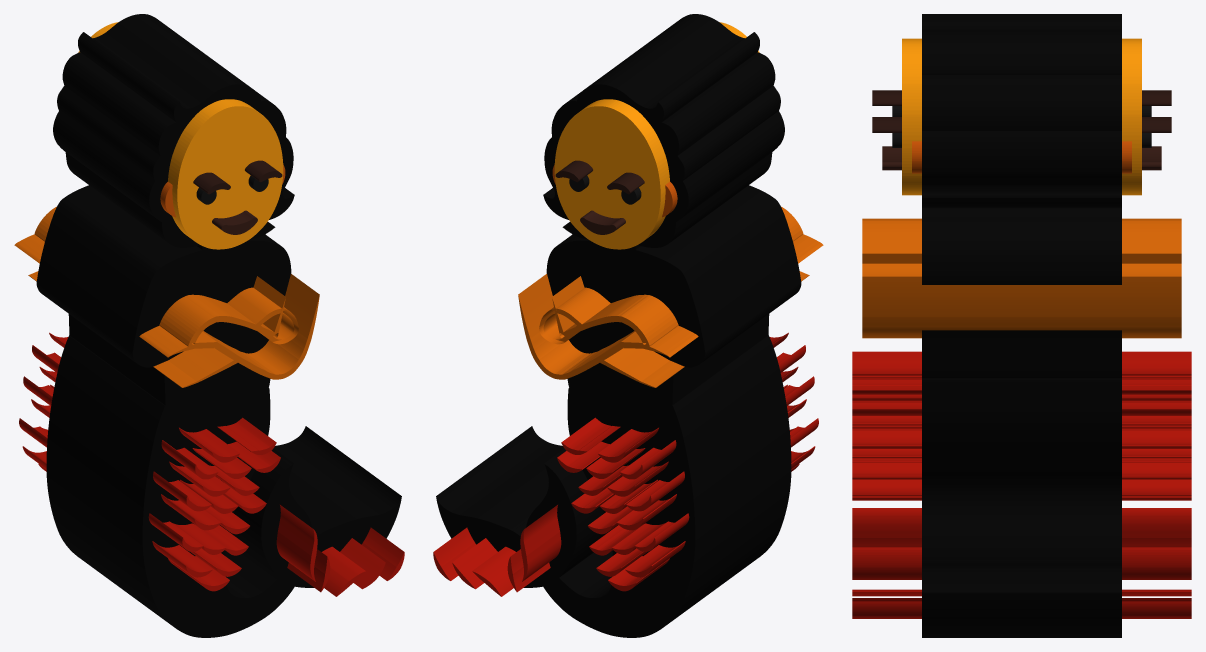
3 renders of one model, left to right at view 1: azimuth 30°, elevation 25°; view 2: azimuth 150°, elevation 25°; view 3: azimuth 270°, elevation 25°, orthographic. The views are drawn at different scales.
Visible parts, largest first — view 1: U+1F9DC_layer00_obj03, U+1F9DC_layer00_obj05, U+1F9DC_layer00_obj04, U+1F9DC_layer02_obj00, U+1F9DC_layer06_obj03, U+1F9DC_layer00_obj00, U+1F9DC_layer06_obj02, U+1F9DC_layer07_obj13, U+1F9DC_layer06_obj00, U+1F9DC_layer00_obj01, U+1F9DC_layer06_obj01, U+1F9DC_layer00_obj06 (+23 smaller); view 2: U+1F9DC_layer00_obj03, U+1F9DC_layer00_obj05, U+1F9DC_layer00_obj04, U+1F9DC_layer02_obj00, U+1F9DC_layer06_obj03, U+1F9DC_layer00_obj00, U+1F9DC_layer06_obj02, U+1F9DC_layer07_obj13, U+1F9DC_layer06_obj00, U+1F9DC_layer00_obj01, U+1F9DC_layer06_obj01, U+1F9DC_layer07_obj21 (+23 smaller); view 3: U+1F9DC_layer00_obj03, U+1F9DC_layer00_obj04, U+1F9DC_layer00_obj05, U+1F9DC_layer06_obj03, U+1F9DC_layer00_obj00, U+1F9DC_layer02_obj00, U+1F9DC_layer07_obj13, U+1F9DC_layer07_obj07, U+1F9DC_layer07_obj19, U+1F9DC_layer07_obj01, U+1F9DC_layer07_obj02, U+1F9DC_layer07_obj06 (+17 smaller).
Part boxes in pixels (bbox=[...]): U+1F9DC_layer00_obj03: bbox=[46, 335, 401, 637]; U+1F9DC_layer00_obj05: bbox=[36, 185, 291, 439]; U+1F9DC_layer00_obj04: bbox=[57, 14, 286, 183]; U+1F9DC_layer02_obj00: bbox=[78, 22, 283, 249]; U+1F9DC_layer06_obj03: bbox=[34, 206, 319, 379]; U+1F9DC_layer00_obj00: bbox=[53, 111, 294, 247]; U+1F9DC_layer06_obj02: bbox=[28, 271, 240, 387]; U+1F9DC_layer07_obj13: bbox=[276, 505, 317, 581]; U+1F9DC_layer06_obj00: bbox=[227, 287, 298, 344]; U+1F9DC_layer00_obj01: bbox=[36, 274, 183, 367]; U+1F9DC_layer06_obj01: bbox=[14, 234, 198, 357]; U+1F9DC_layer00_obj06: bbox=[205, 272, 290, 353]; U+1F9DC_layer00_obj03: bbox=[436, 335, 791, 637]; U+1F9DC_layer00_obj05: bbox=[546, 185, 801, 431]; U+1F9DC_layer00_obj04: bbox=[551, 14, 780, 184]; U+1F9DC_layer02_obj00: bbox=[554, 22, 759, 249]; U+1F9DC_layer06_obj03: bbox=[518, 206, 803, 379]; U+1F9DC_layer00_obj00: bbox=[543, 111, 784, 247]; U+1F9DC_layer06_obj02: bbox=[597, 271, 809, 387]; U+1F9DC_layer07_obj13: bbox=[520, 505, 561, 581]; U+1F9DC_layer06_obj00: bbox=[539, 287, 610, 344]; U+1F9DC_layer00_obj01: bbox=[654, 274, 801, 367]; U+1F9DC_layer06_obj01: bbox=[639, 234, 823, 357]; U+1F9DC_layer07_obj21: bbox=[626, 376, 814, 511]; U+1F9DC_layer00_obj03: bbox=[922, 378, 1121, 637]; U+1F9DC_layer00_obj04: bbox=[922, 14, 1121, 130]; U+1F9DC_layer00_obj05: bbox=[922, 217, 1121, 378]; U+1F9DC_layer06_obj03: bbox=[862, 218, 1181, 338]; U+1F9DC_layer00_obj00: bbox=[922, 131, 1121, 216]; U+1F9DC_layer02_obj00: bbox=[902, 38, 1141, 195]; U+1F9DC_layer07_obj13: bbox=[852, 508, 1191, 547]; U+1F9DC_layer07_obj07: bbox=[852, 547, 1191, 579]; U+1F9DC_layer07_obj19: bbox=[852, 351, 1191, 375]; U+1F9DC_layer07_obj01: bbox=[852, 430, 1191, 448]; U+1F9DC_layer07_obj02: bbox=[852, 462, 1191, 479]; U+1F9DC_layer07_obj06: bbox=[852, 601, 1191, 618].
Size of the model in its own units: 0.1617 by 0.3153 by 0.17.
